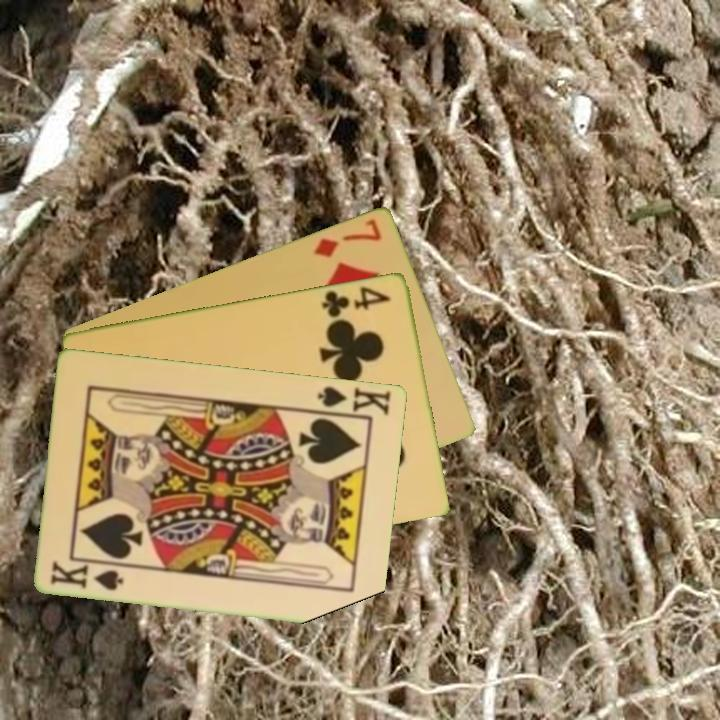4c: (318, 282, 394, 320)
7d: (311, 215, 385, 260)
Ks: (48, 556, 127, 593), (314, 382, 394, 418)
